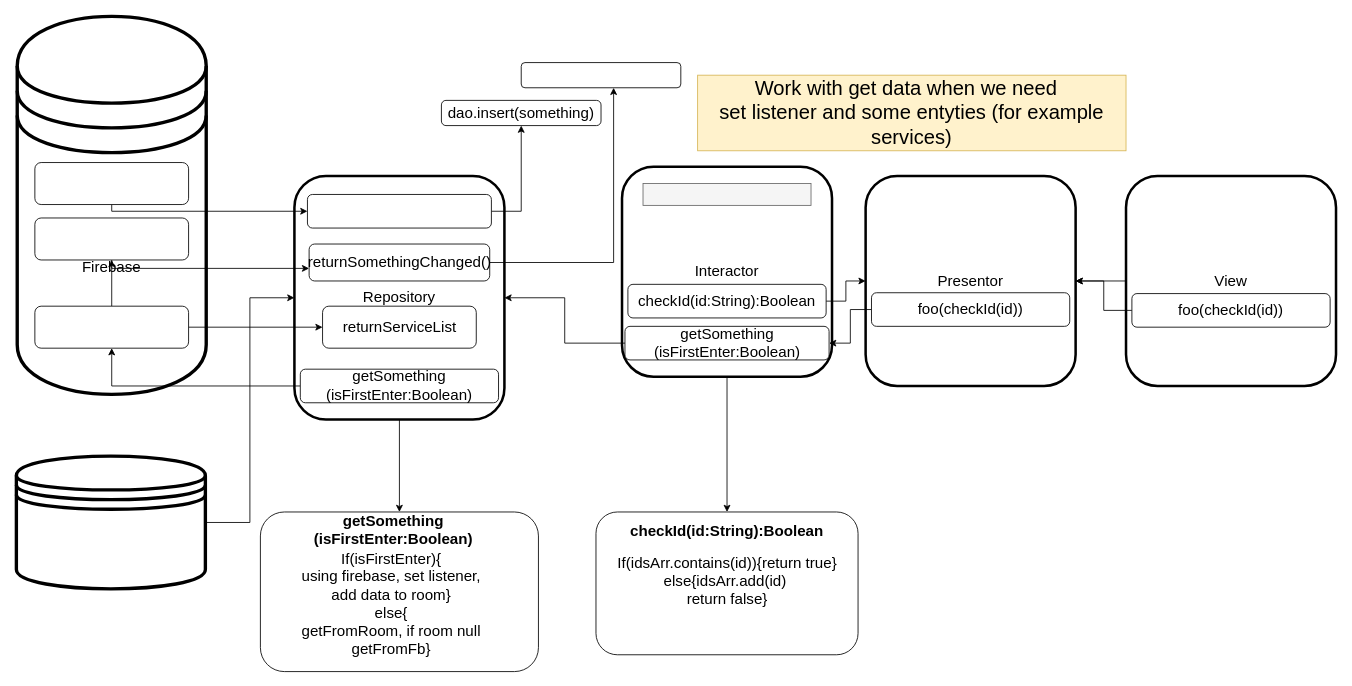
Some shapes in this 1352 by 686 pixel diagram are drawn without their labels. Each missing label, with the centre of its shape:
AddLisntereForSingle: (111,326)
dao.update(something): (600,75)
onChildAdded: (111,183)
onChildChanged: (111,238)
private val idsArr = null: (726,194)
returnSomethingAdded(): (399,211)
Room: (110,522)
